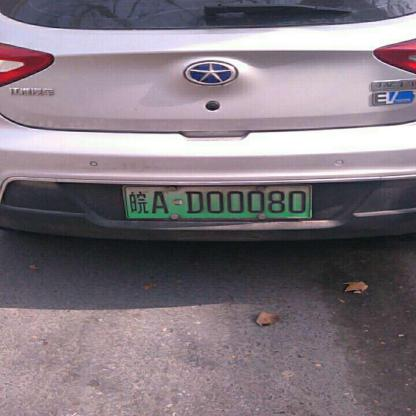lp: (125, 185, 310, 216)
